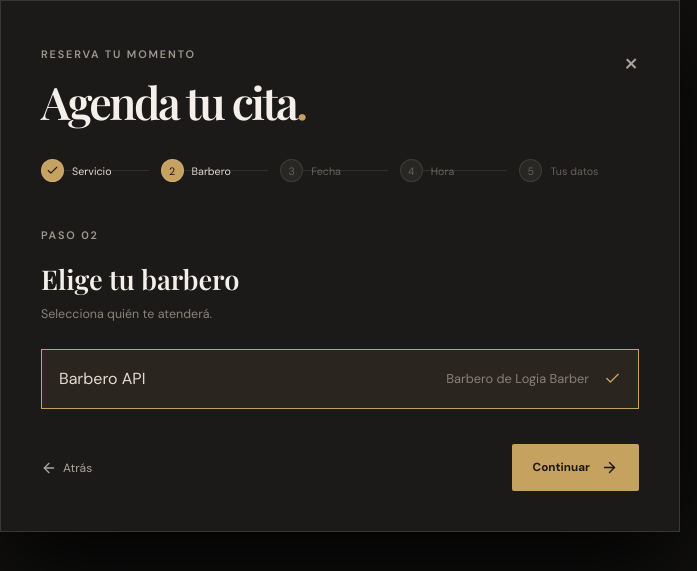
Test: Guayaquil 18:59: utility, initial date and min agree
Click the button "Continuar" at (575, 468), box [512, 444, 639, 491]
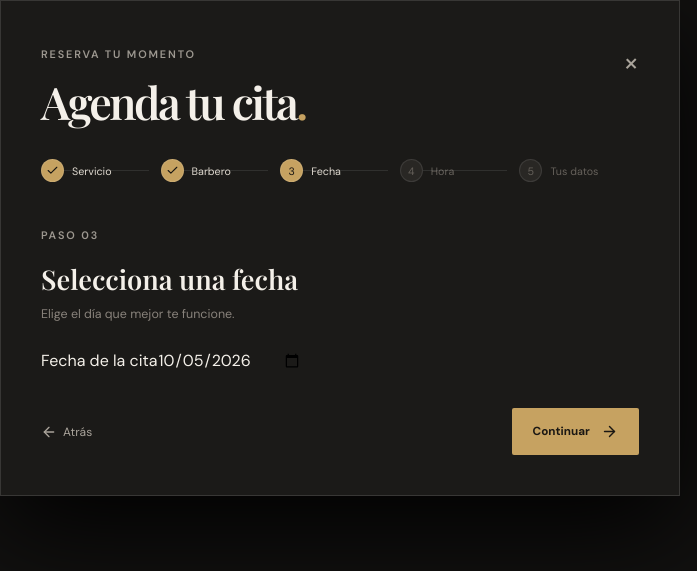
Expected: the date field labelled "Fecha de la cita" holds "2026-10-05", [158, 349, 302, 373]
